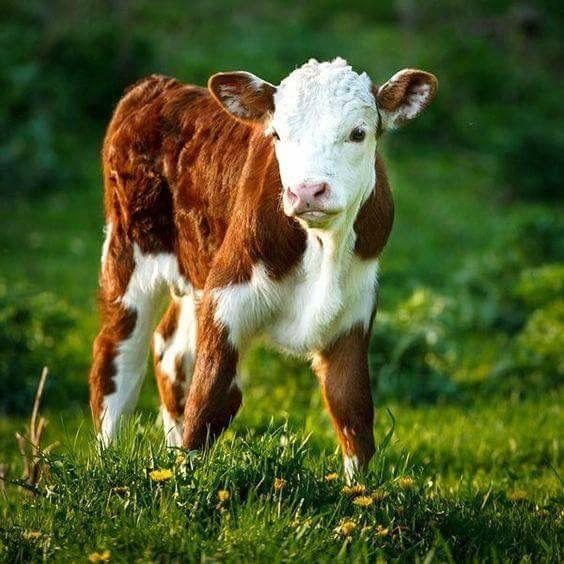cow: (85, 53, 465, 467)
